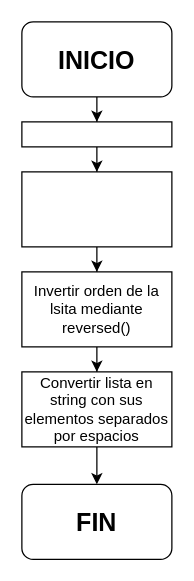
Image size: 194x581. Some labels were removed from this diagram. Here are the shapes that lost their labels. From the top down, the box of each, then its label:
(21, 121, 172, 147): Leer string
(21, 171, 172, 247): Convertir string en lista mediante split()
